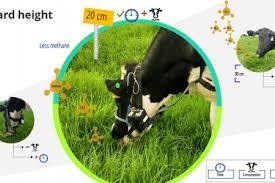cow: (105, 28, 206, 146), (0, 97, 26, 135), (247, 27, 275, 58)
